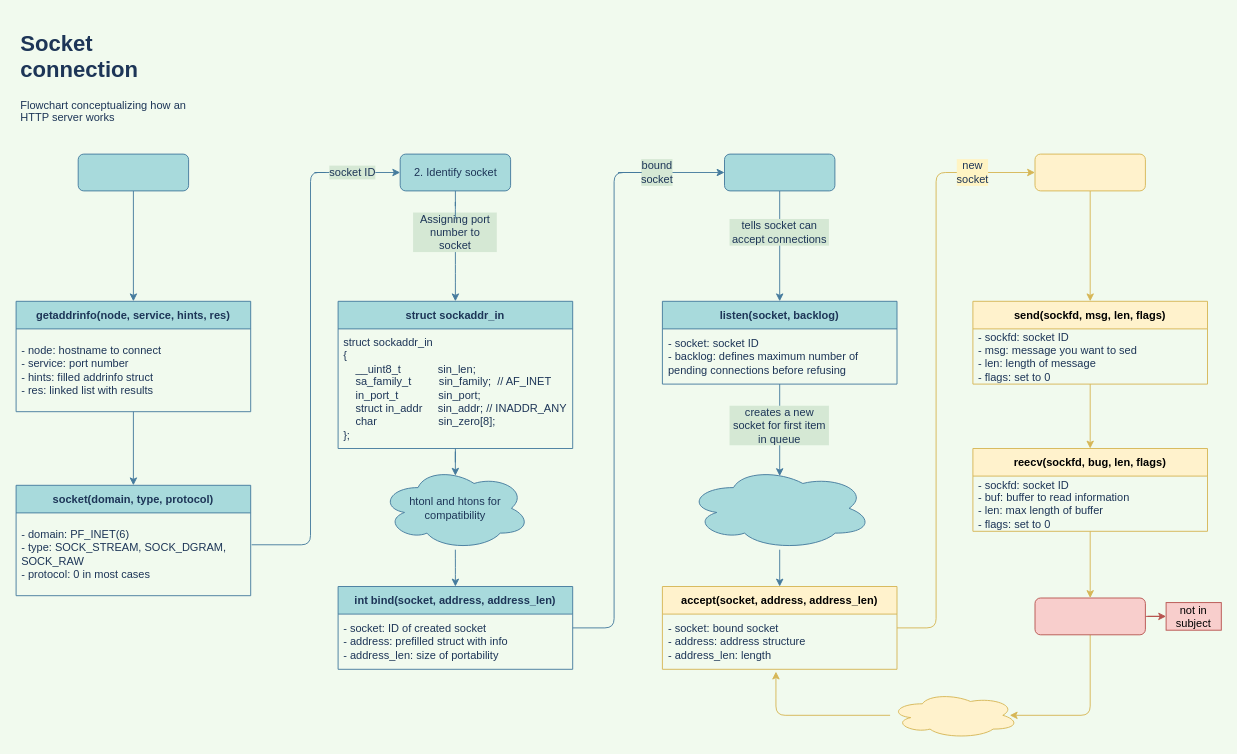
Some shapes in this 1237 by 754 pixel diagram are drawn without their labels. The shapes that lost their labels are listed below. From the top down, each one's centre as x and y in pixels, then its label:
At [133,172]: "1. Create socket".
At [779,172]: "Waiting for connection (server)".
At [1089,172]: "Send/Receive".
At [779,508]: "original socket used only for accepting connections".
At [1089,616]: "close(socket)".
At [954,714]: "looping".
